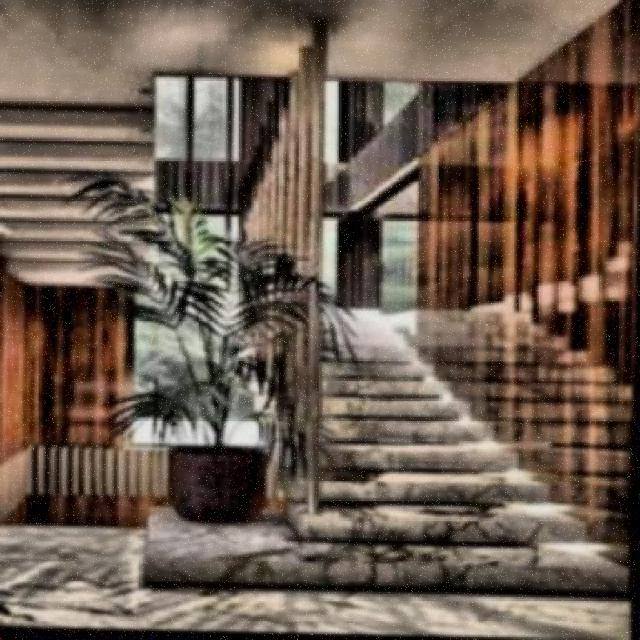stair: (298, 300, 636, 591)
